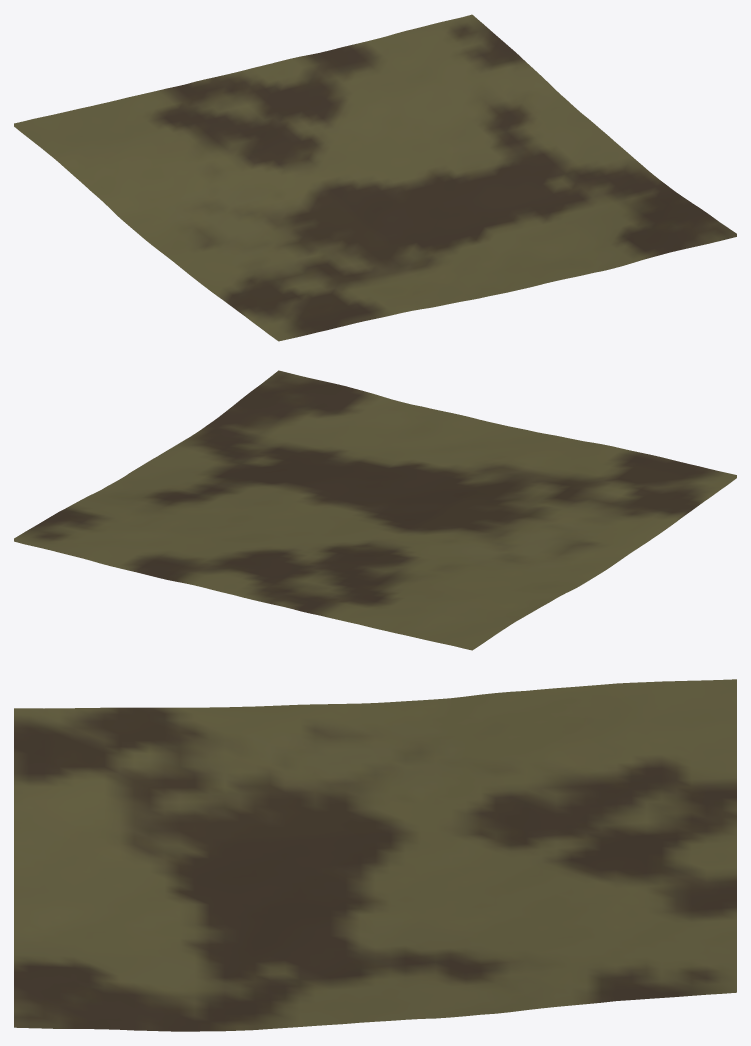
File: land_m_03_02.glb
3 renders of one model, top to bottom at view 1: azimuth 30°, elevation 25°; view 2: azimuth 150°, elevation 25°; view 3: azimuth 270°, elevation 25°, orthographic. The views are drawn at different scales.
Parts seen in each view (by area): view 1: land_m_03_02; view 2: land_m_03_02; view 3: land_m_03_02.
Boxes of the visible parts, x1,y1,x2,y2 form: land_m_03_02: (14,14,736,341); land_m_03_02: (14,370,736,650); land_m_03_02: (14,679,736,1031).
Size of the model in its own units: 960 by 68.63 by 960.
